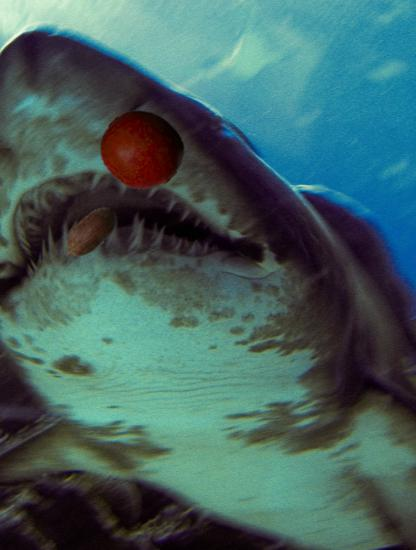Nectarine: (101, 109, 183, 191)
Nut: (58, 201, 123, 266)
